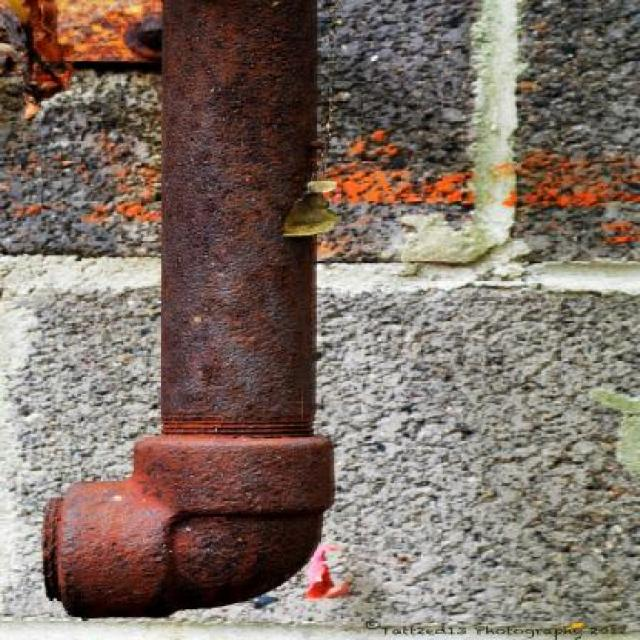corrosion: (43, 0, 341, 618)
